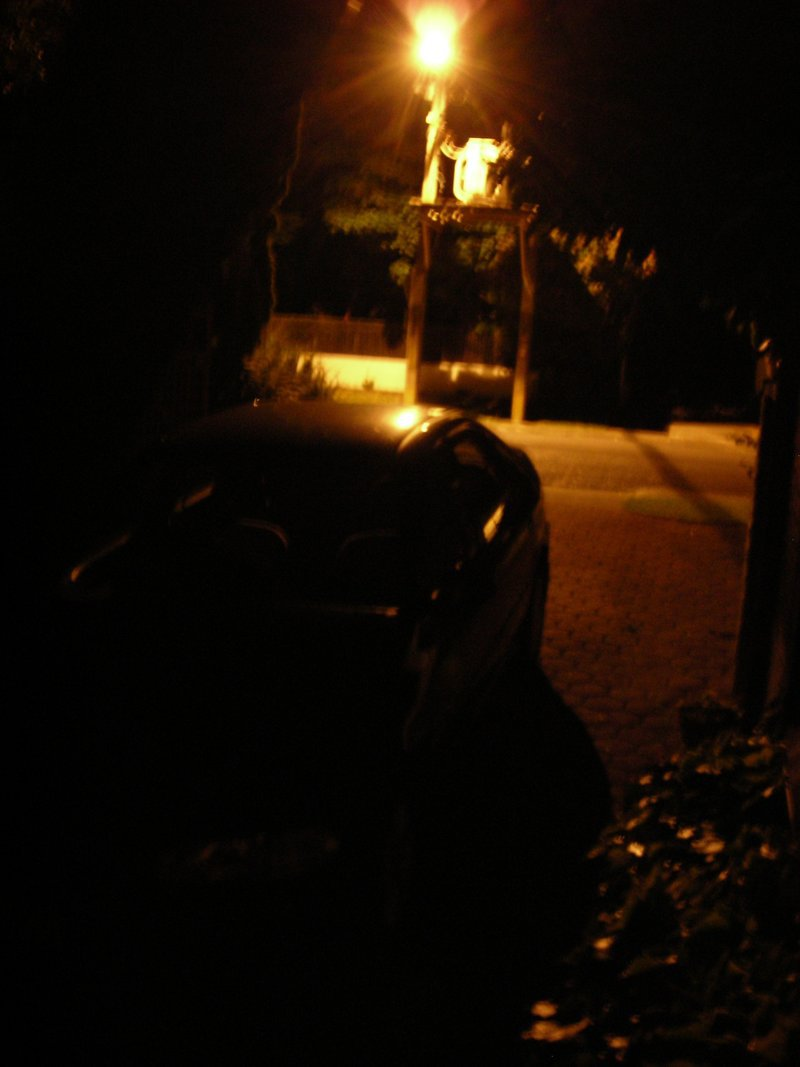car: (19, 386, 566, 857)
